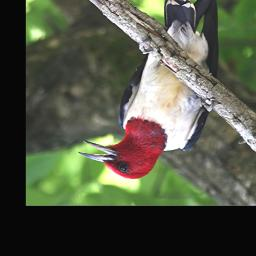Woodpecker: (73, 0, 225, 179)
